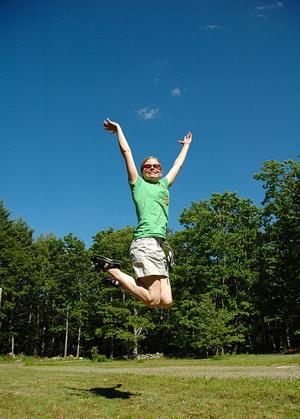person: (97, 114, 193, 308)
